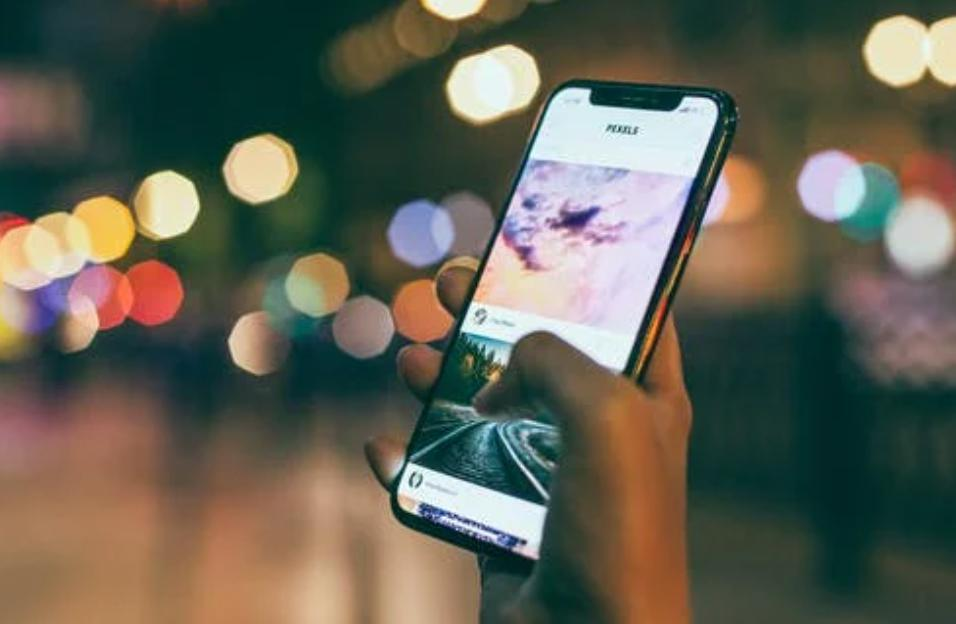mobile: (393, 80, 739, 570)
